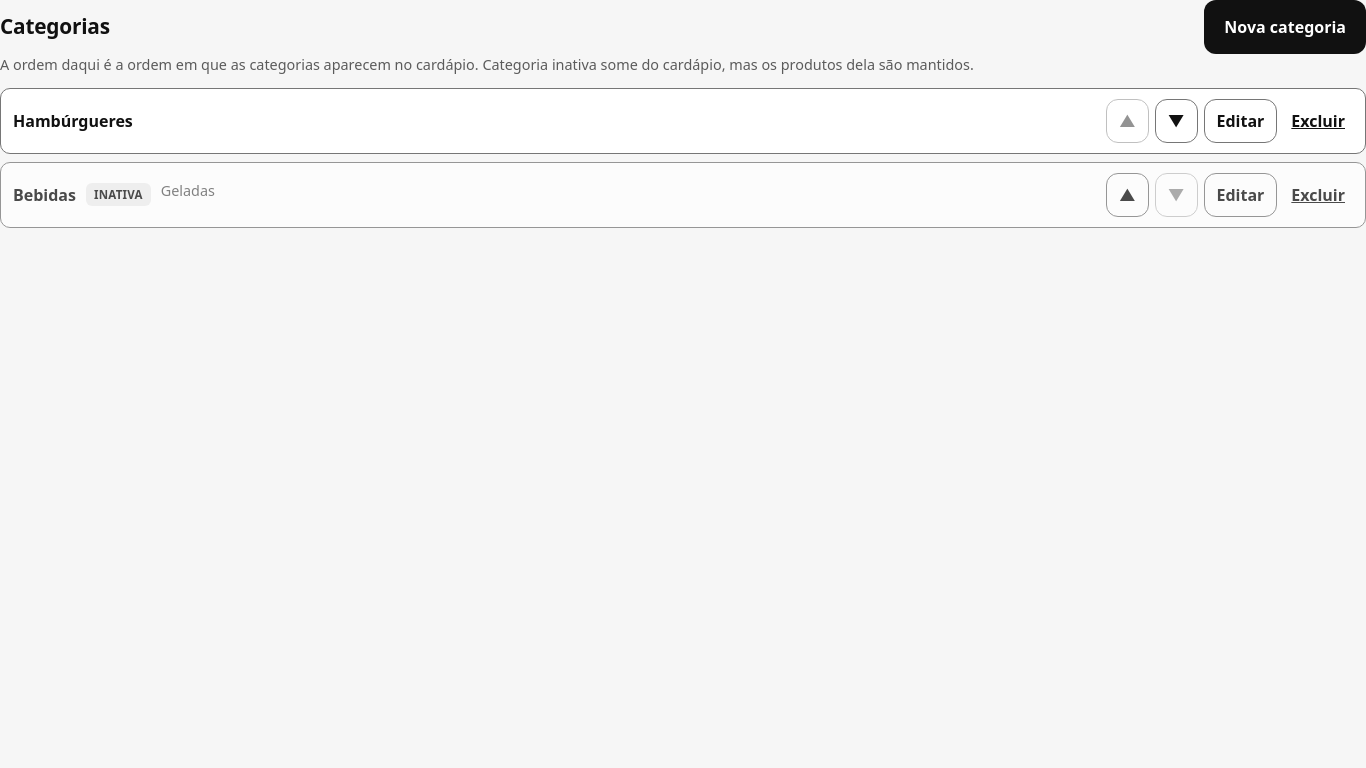
Test: Admin: categorias › exclui categoria vazia depois de confirmar
This screenshot has width=1366, height=768.
Click the button with aria-label "Excluir Bebidas".
click(1318, 195)  # box [1283,173,1353,217]
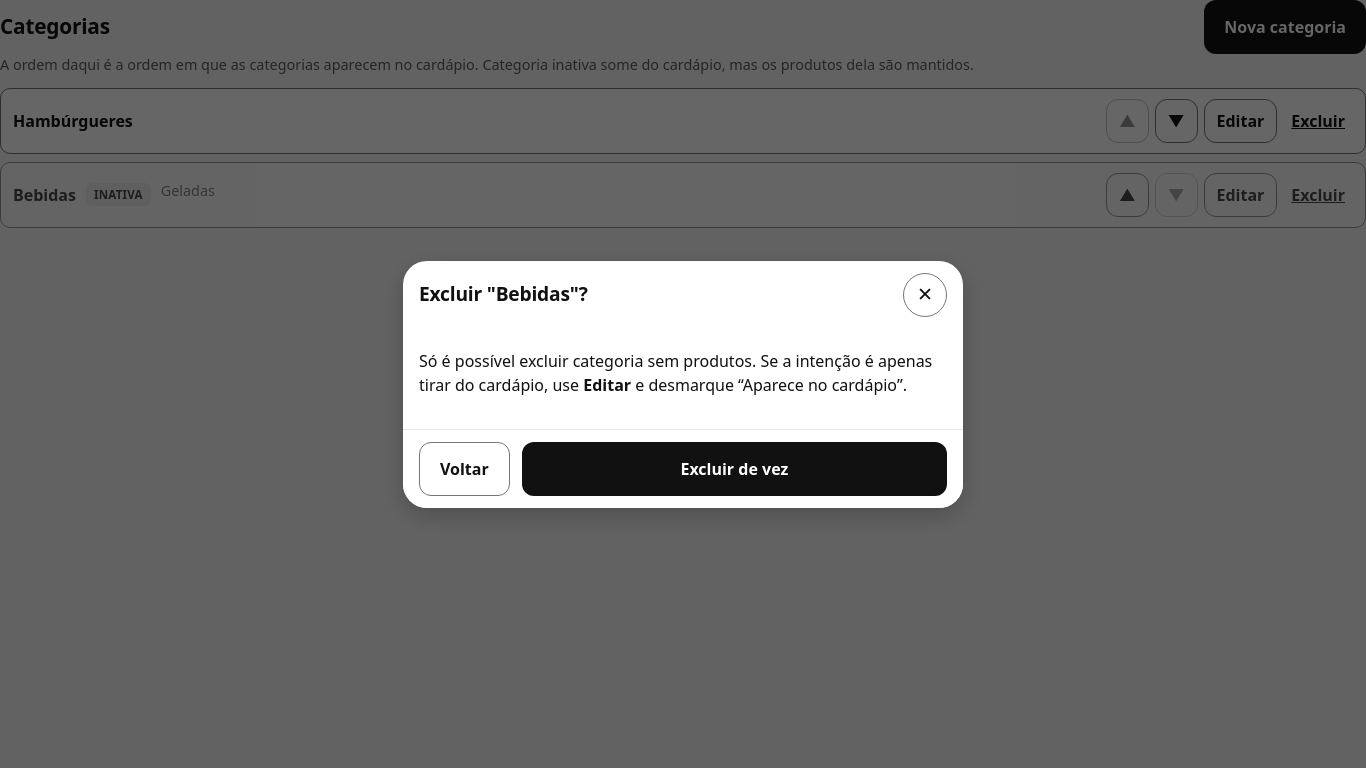
Click the button "Excluir de vez".
click(734, 468)  # box [522,442,947,496]
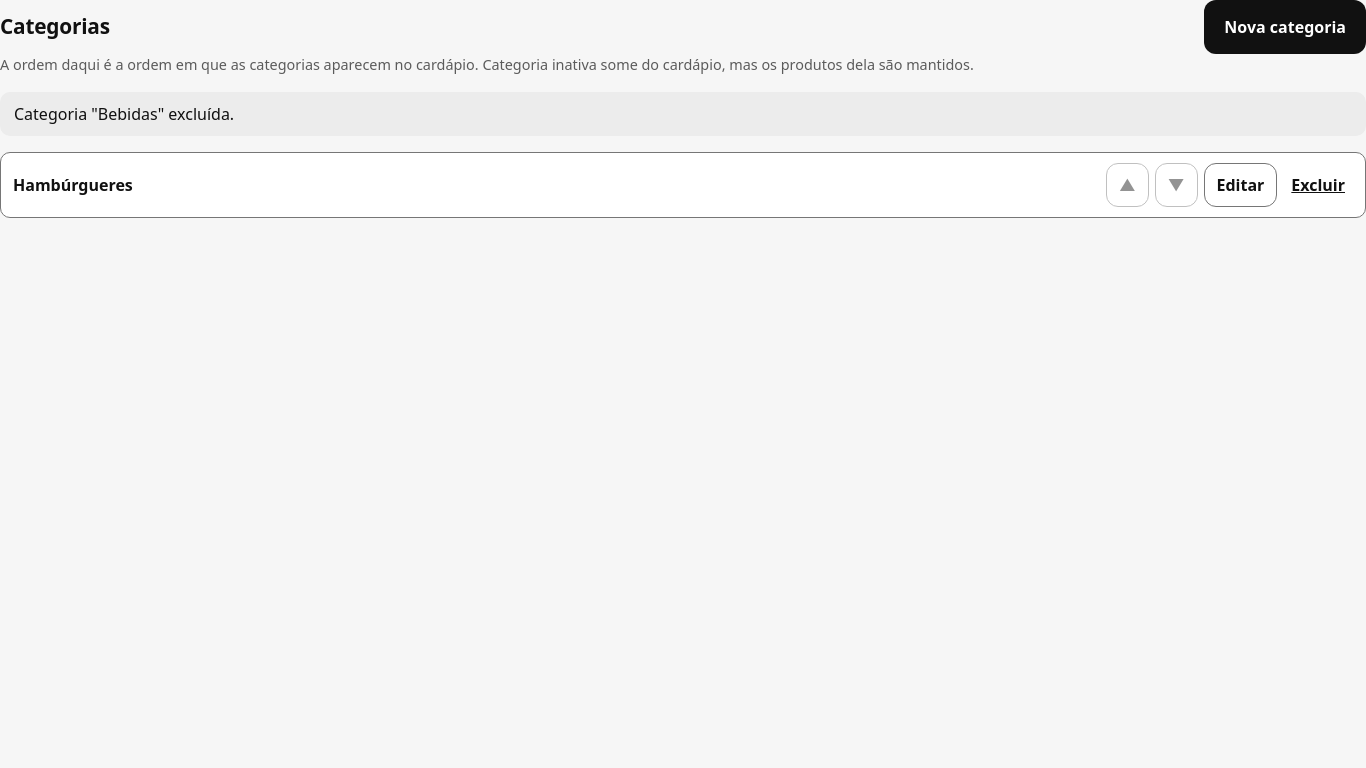
Expected: the text "Categoria \"Bebidas\" excluída." is shown, [0,92,1365,136]
Expected: the text "Geladas" is gone
